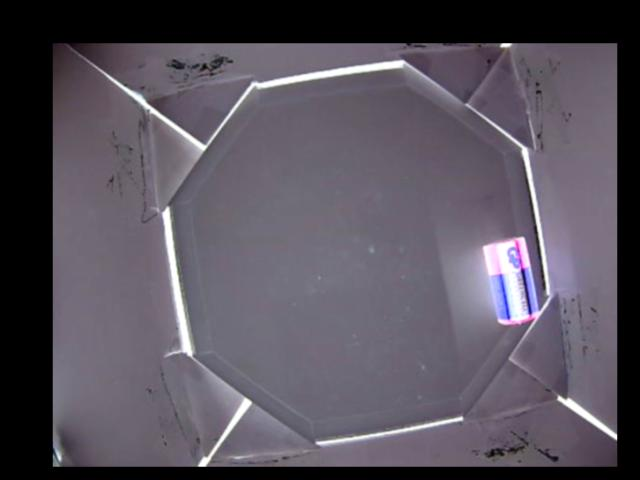Battery: (482, 236, 541, 324)
